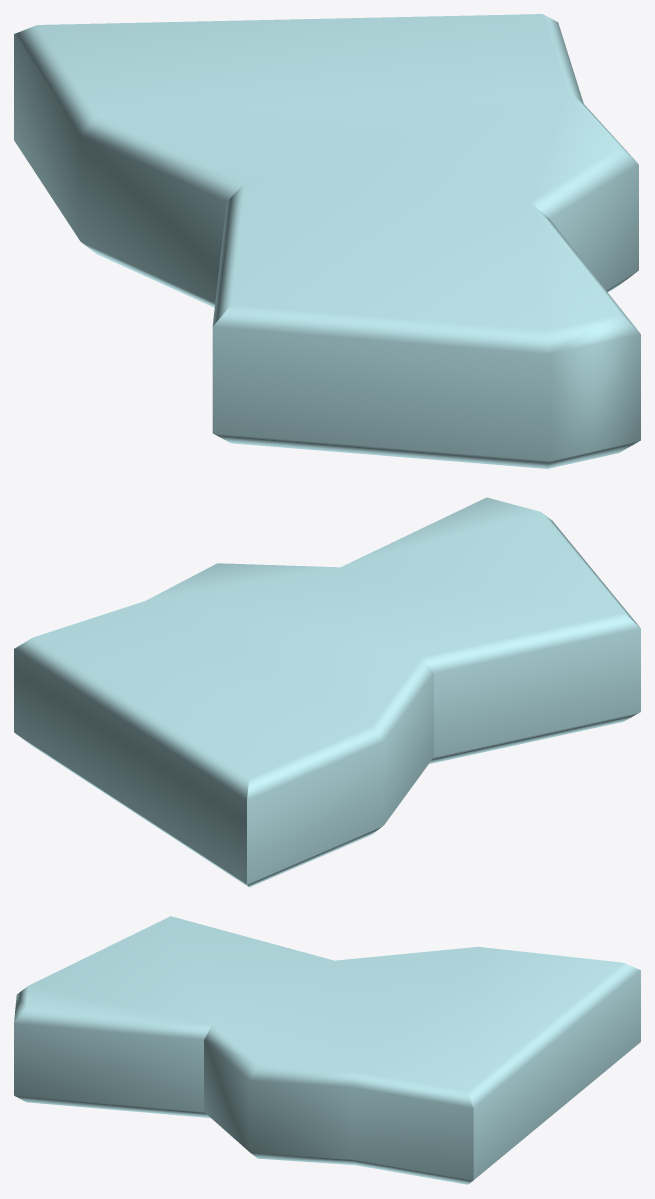
The model's file is ice_floe_medium_010.fbx.
3 views of the same model, one above another, from view 1: azimuth 30°, elevation 25°; view 2: azimuth 150°, elevation 25°; view 3: azimuth 270°, elevation 25° (orthographic). The views are drawn at different scales.
Visible parts, largest first — view 1: ice_floe_medium_010; view 2: ice_floe_medium_010; view 3: ice_floe_medium_010.
Part boxes in pixels (x1,y1,x2,y2): ice_floe_medium_010: (14, 14, 640, 468); ice_floe_medium_010: (14, 497, 640, 887); ice_floe_medium_010: (14, 916, 640, 1184).
Size of the model in its own units: 386 by 543 by 89.44.
